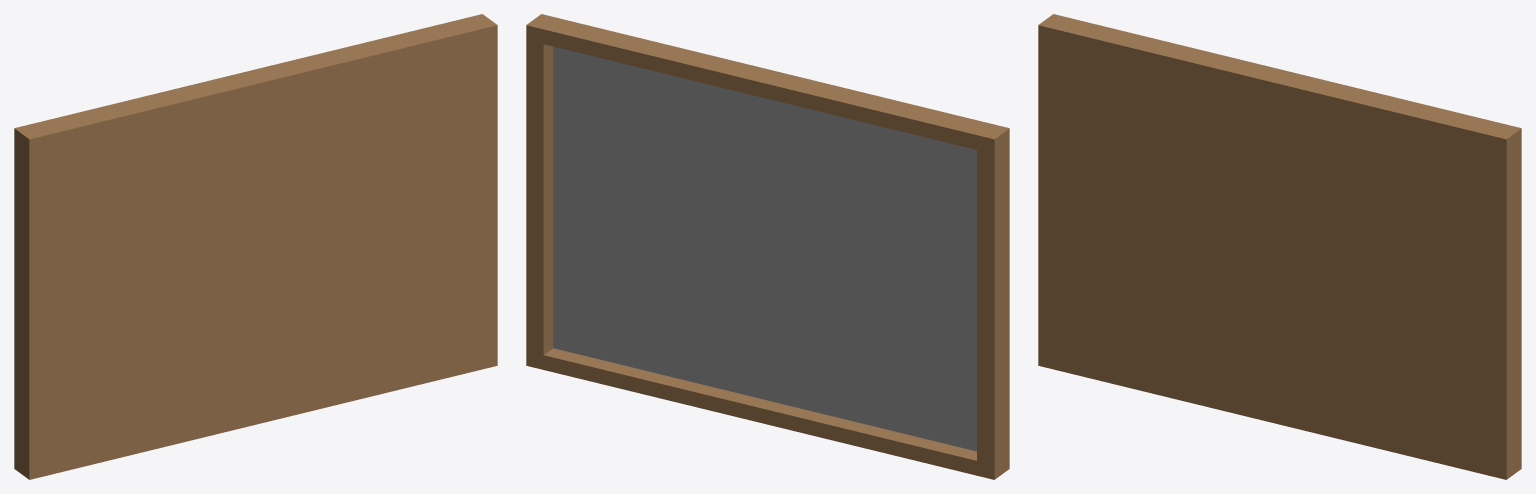
File: mirror_2.FBX
3 views of the same model, side by side, from view 1: azimuth 30°, elevation 25°; view 2: azimuth 150°, elevation 25°; view 3: azimuth 330°, elevation 25° (orthographic).
Parts seen in each view (by area): view 1: mirror_2; view 2: mirror_2; view 3: mirror_2.
Part boxes in pixels (left/top/right/bottom): mirror_2: left=14, top=14, right=497, bottom=479; mirror_2: left=526, top=14, right=1009, bottom=479; mirror_2: left=1038, top=14, right=1521, bottom=479.
Size of the model in its own units: 0.6838 by 0.4751 by 0.0387.
